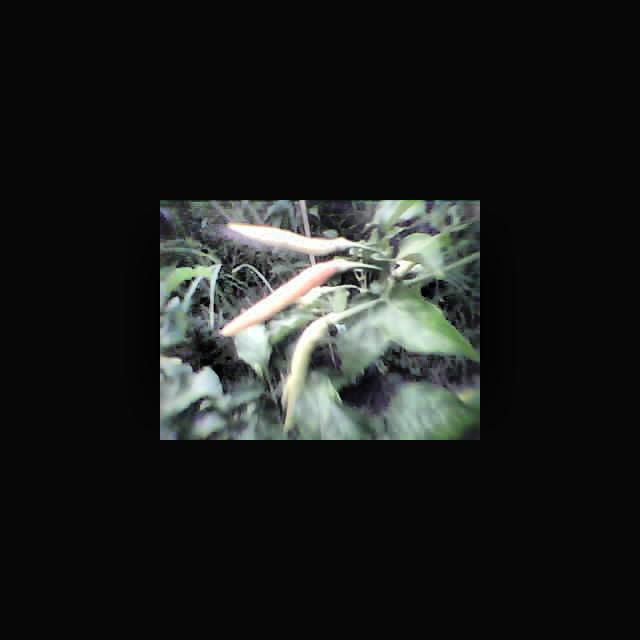Cabai: (230, 257, 350, 309)
